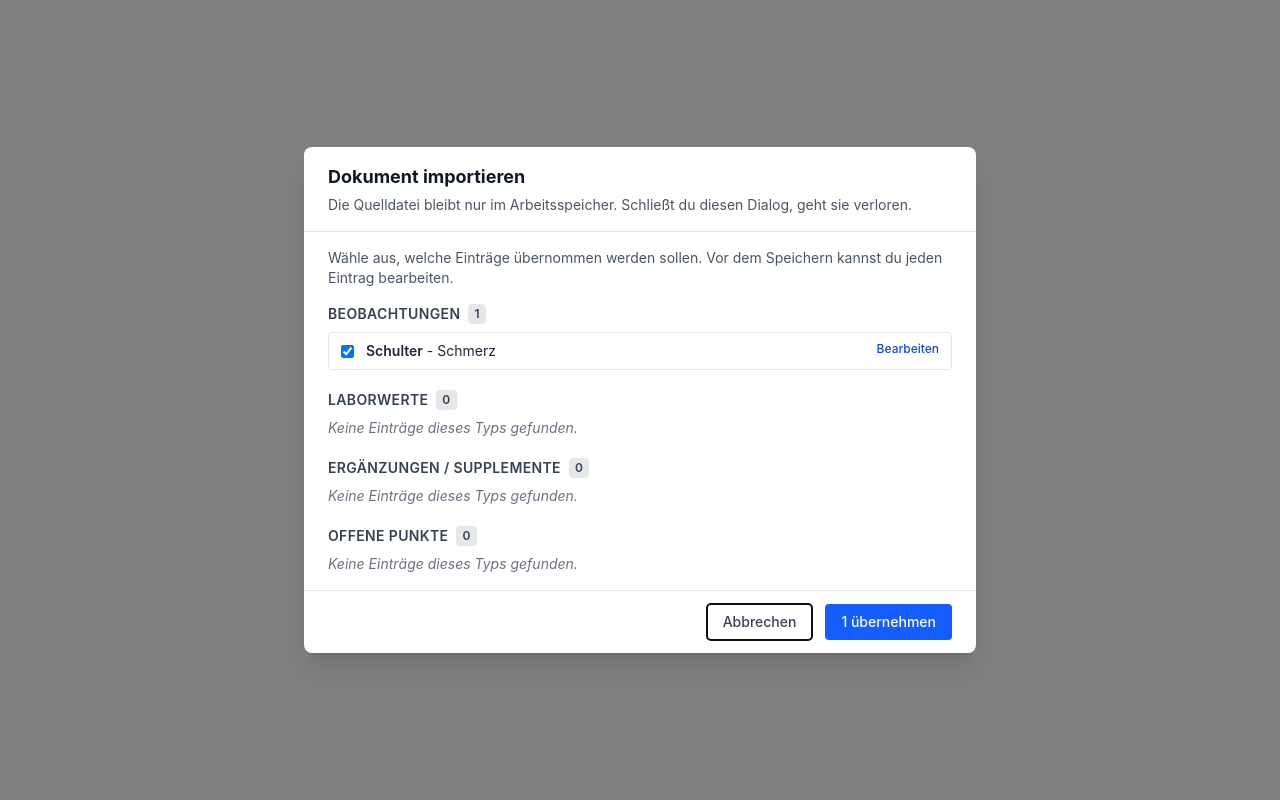
Test: ImportFlow › shows no-profile message when commit aborts on missing profile
Expected: the element with test id "review-panel" is shown, [328, 304, 952, 574]
Click the button "1 übernehmen".
click(889, 622)  # box [825, 604, 952, 640]
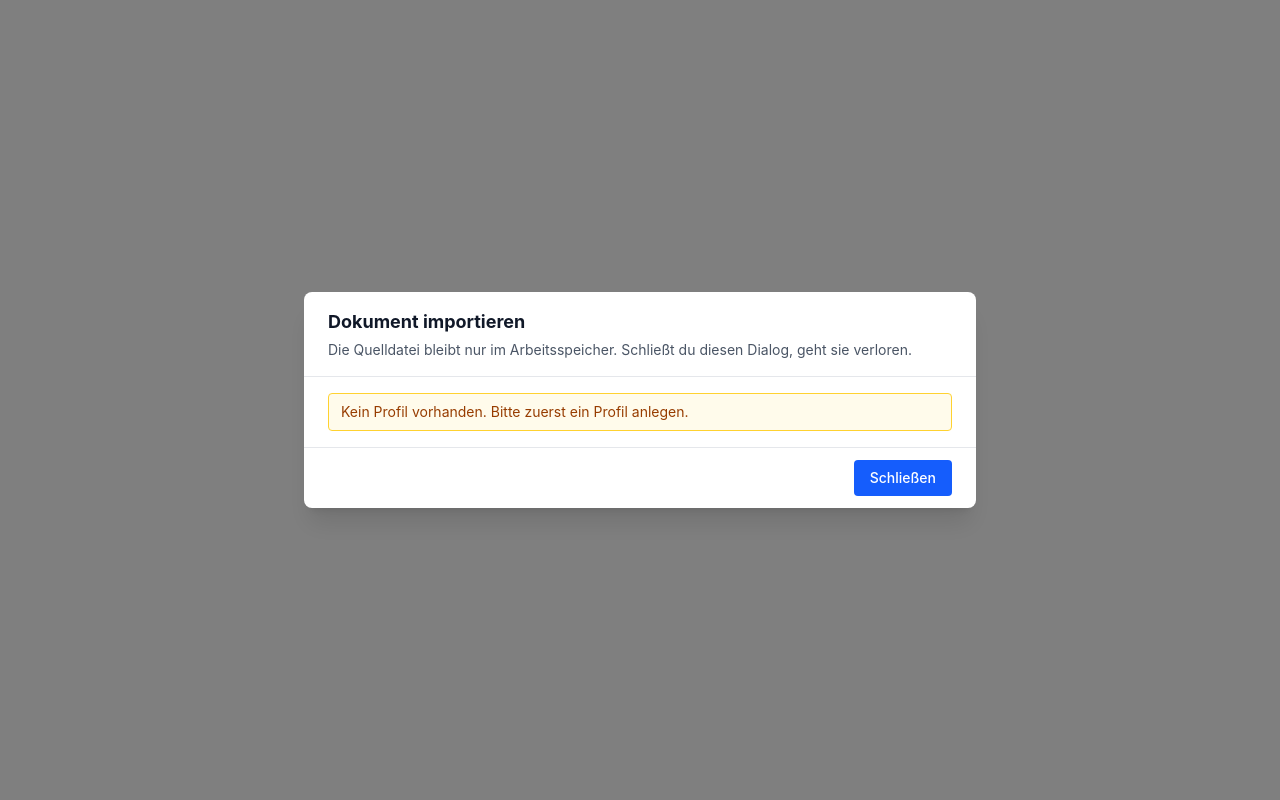
Result: the message "Kein Profil vorhanden. Bitte zuerst ein Profil anlegen." is shown at [328, 393, 952, 431]
